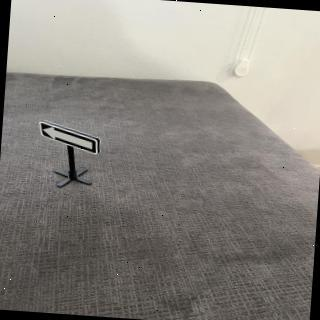sign_oneway_left: (38, 119, 103, 156)
